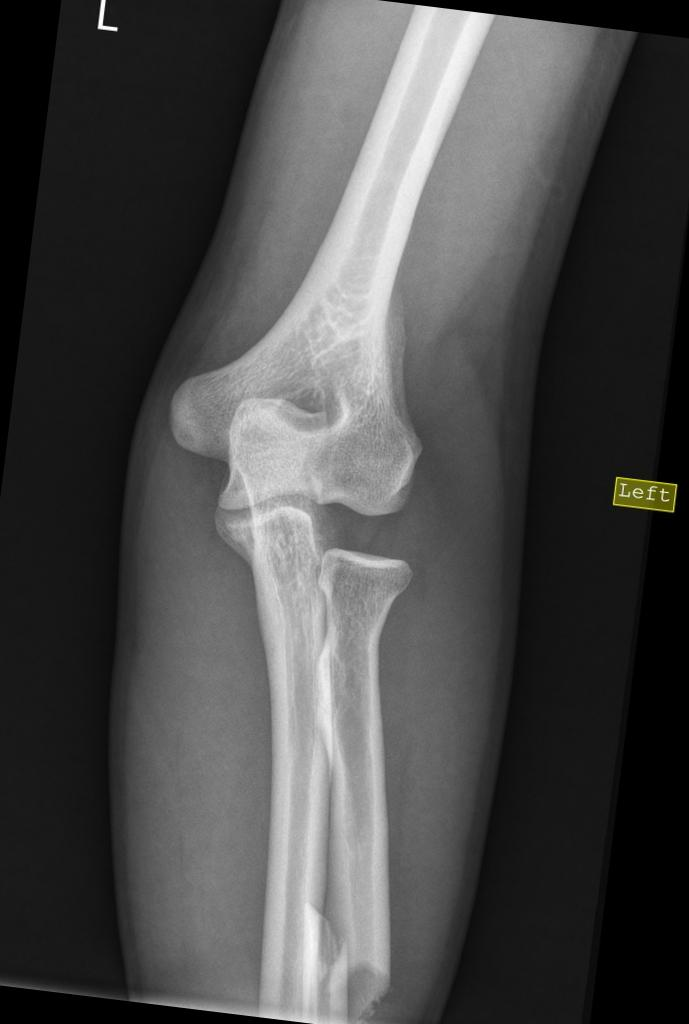messed_up_angle: (289, 893, 401, 1024)
